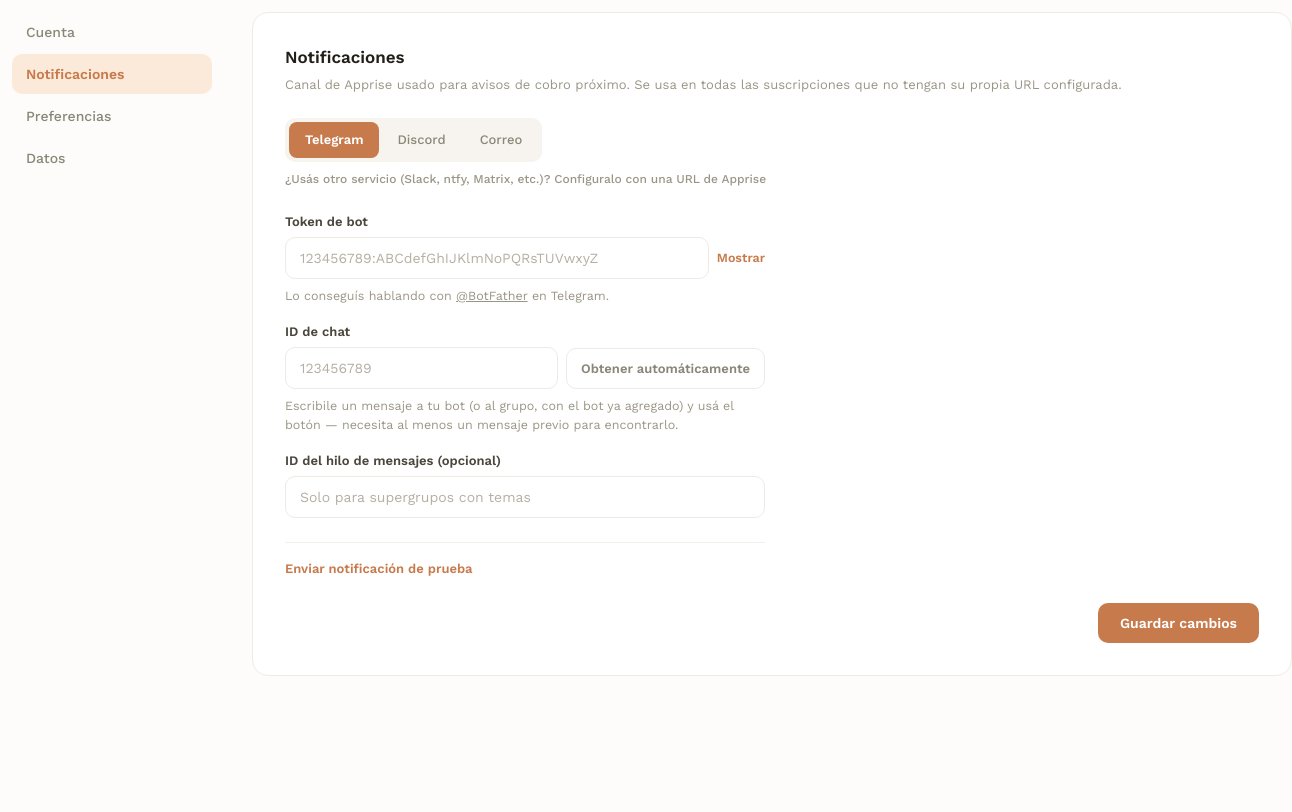
Test: notification channel selection › switches to manual apprise url mode via the escape hatch link
Click the button "¿Usás otro servicio".
click(526, 178)  # box 285,170 -> 766,188
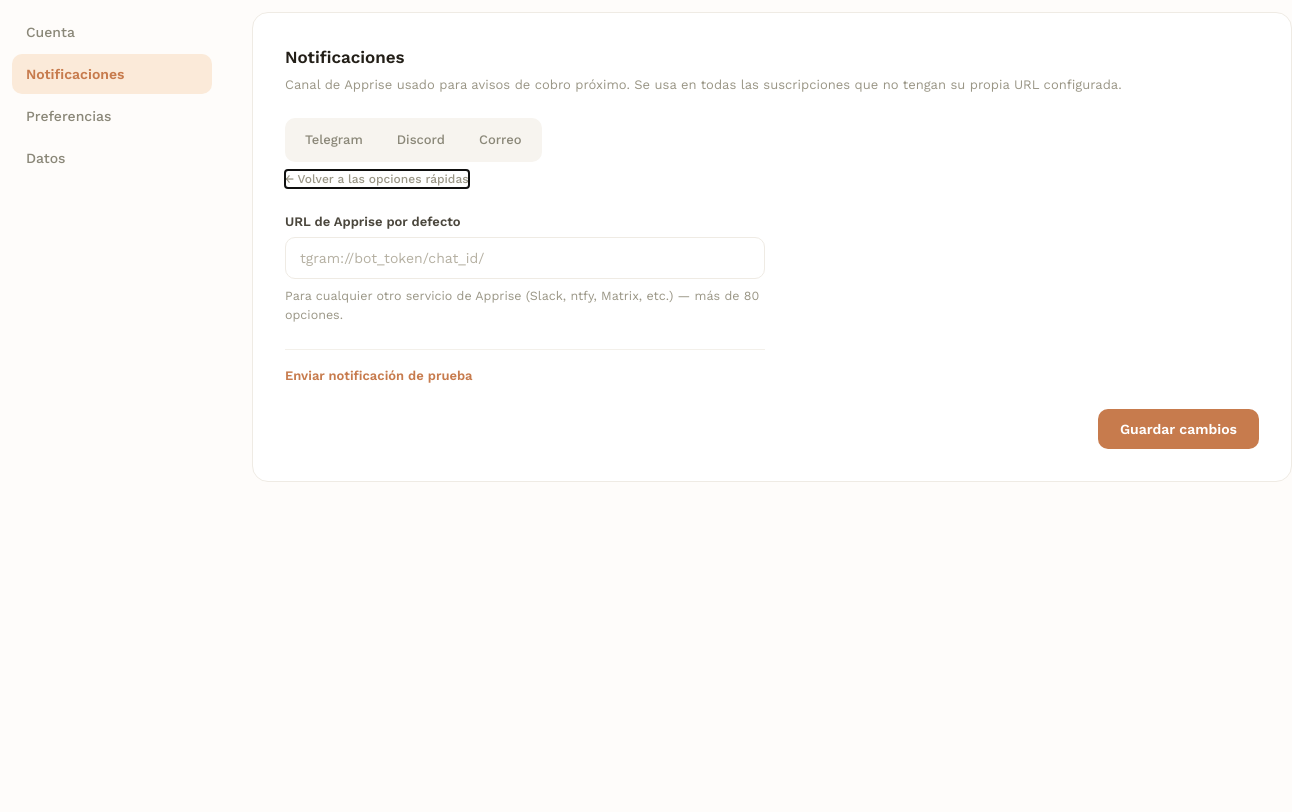
expect the text "URL de Apprise por defecto" is shown: met, box 285,214 -> 461,228
